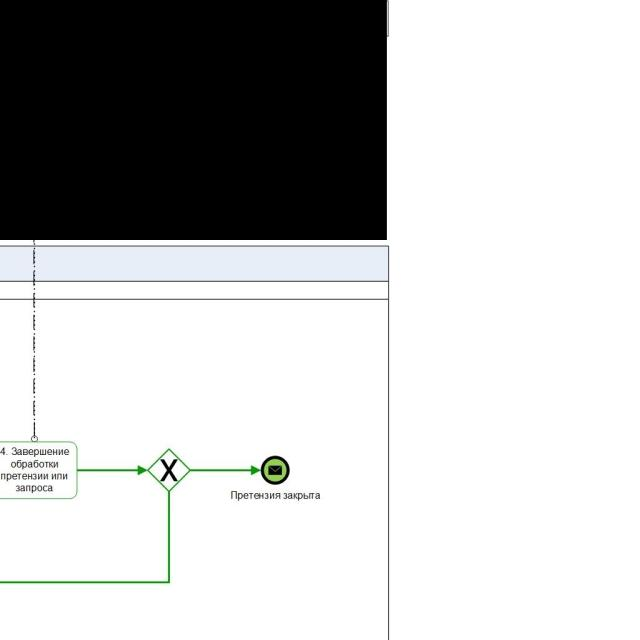arrow: (77, 462, 148, 477), (190, 463, 261, 478)
circle: (260, 456, 290, 485)
diamond: (148, 448, 190, 491)
text_region: (229, 488, 323, 503)
